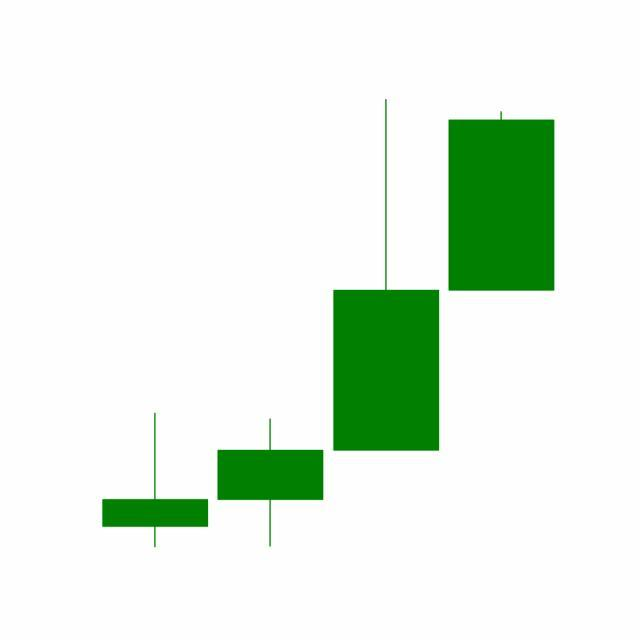Marubozu: (444, 109, 560, 293)
